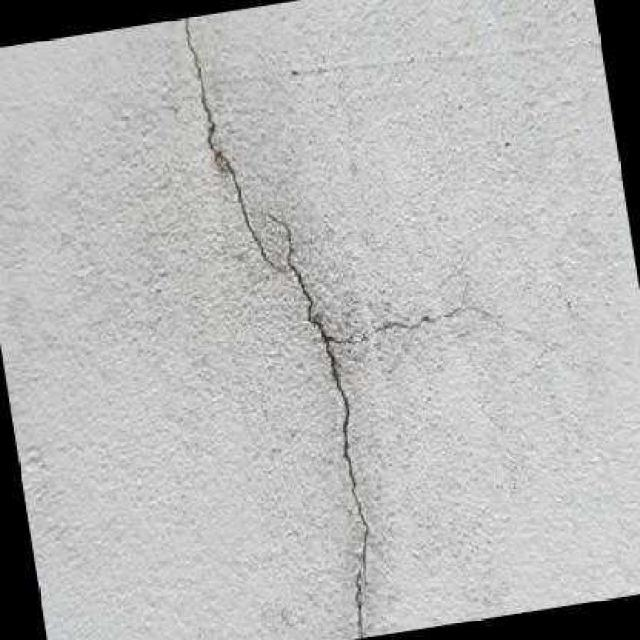D00: (184, 20, 370, 638)
